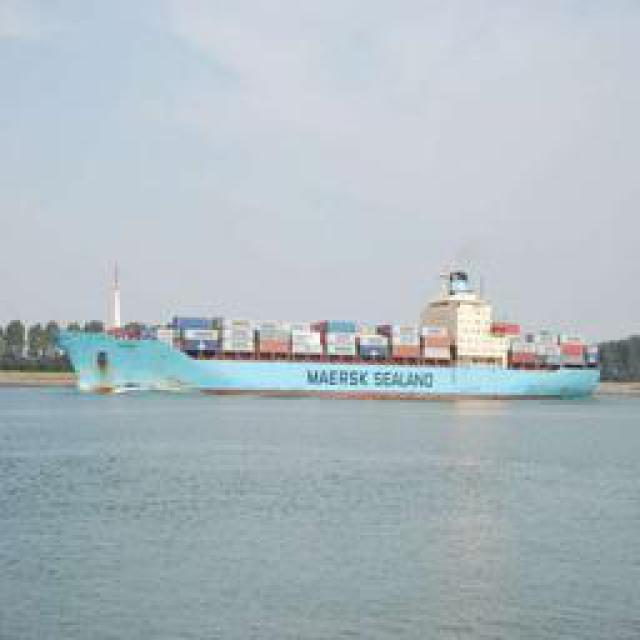Ship: (108, 269, 603, 404)
